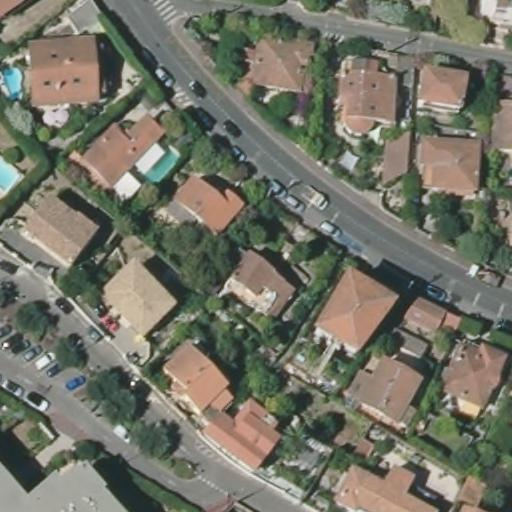pool: (143, 144, 185, 183), (0, 61, 27, 105), (0, 153, 26, 193)
